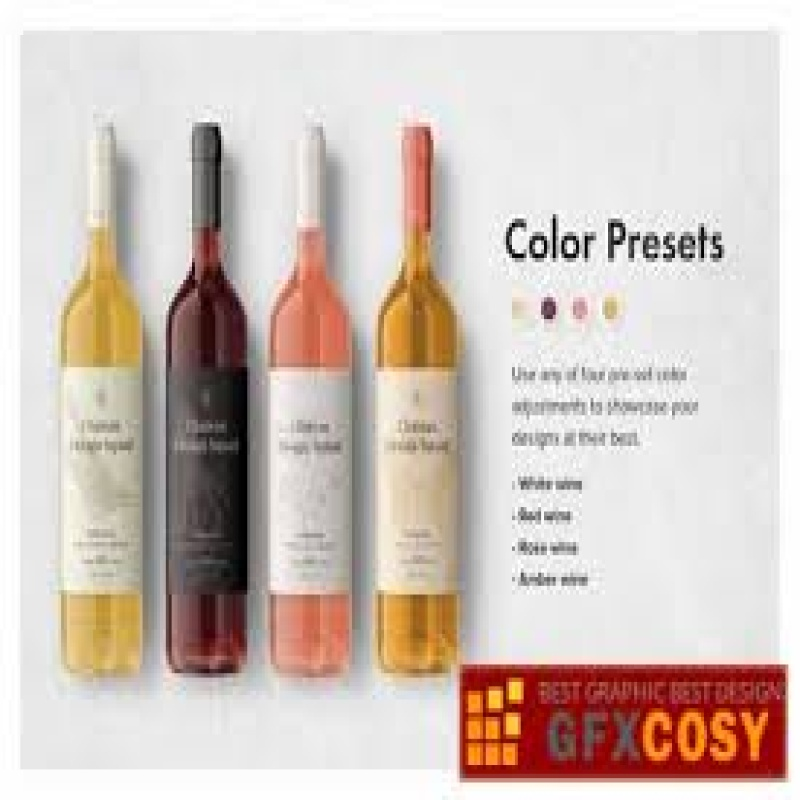wine: (380, 121, 471, 683), (62, 126, 154, 668), (166, 124, 256, 665), (273, 124, 359, 672)
